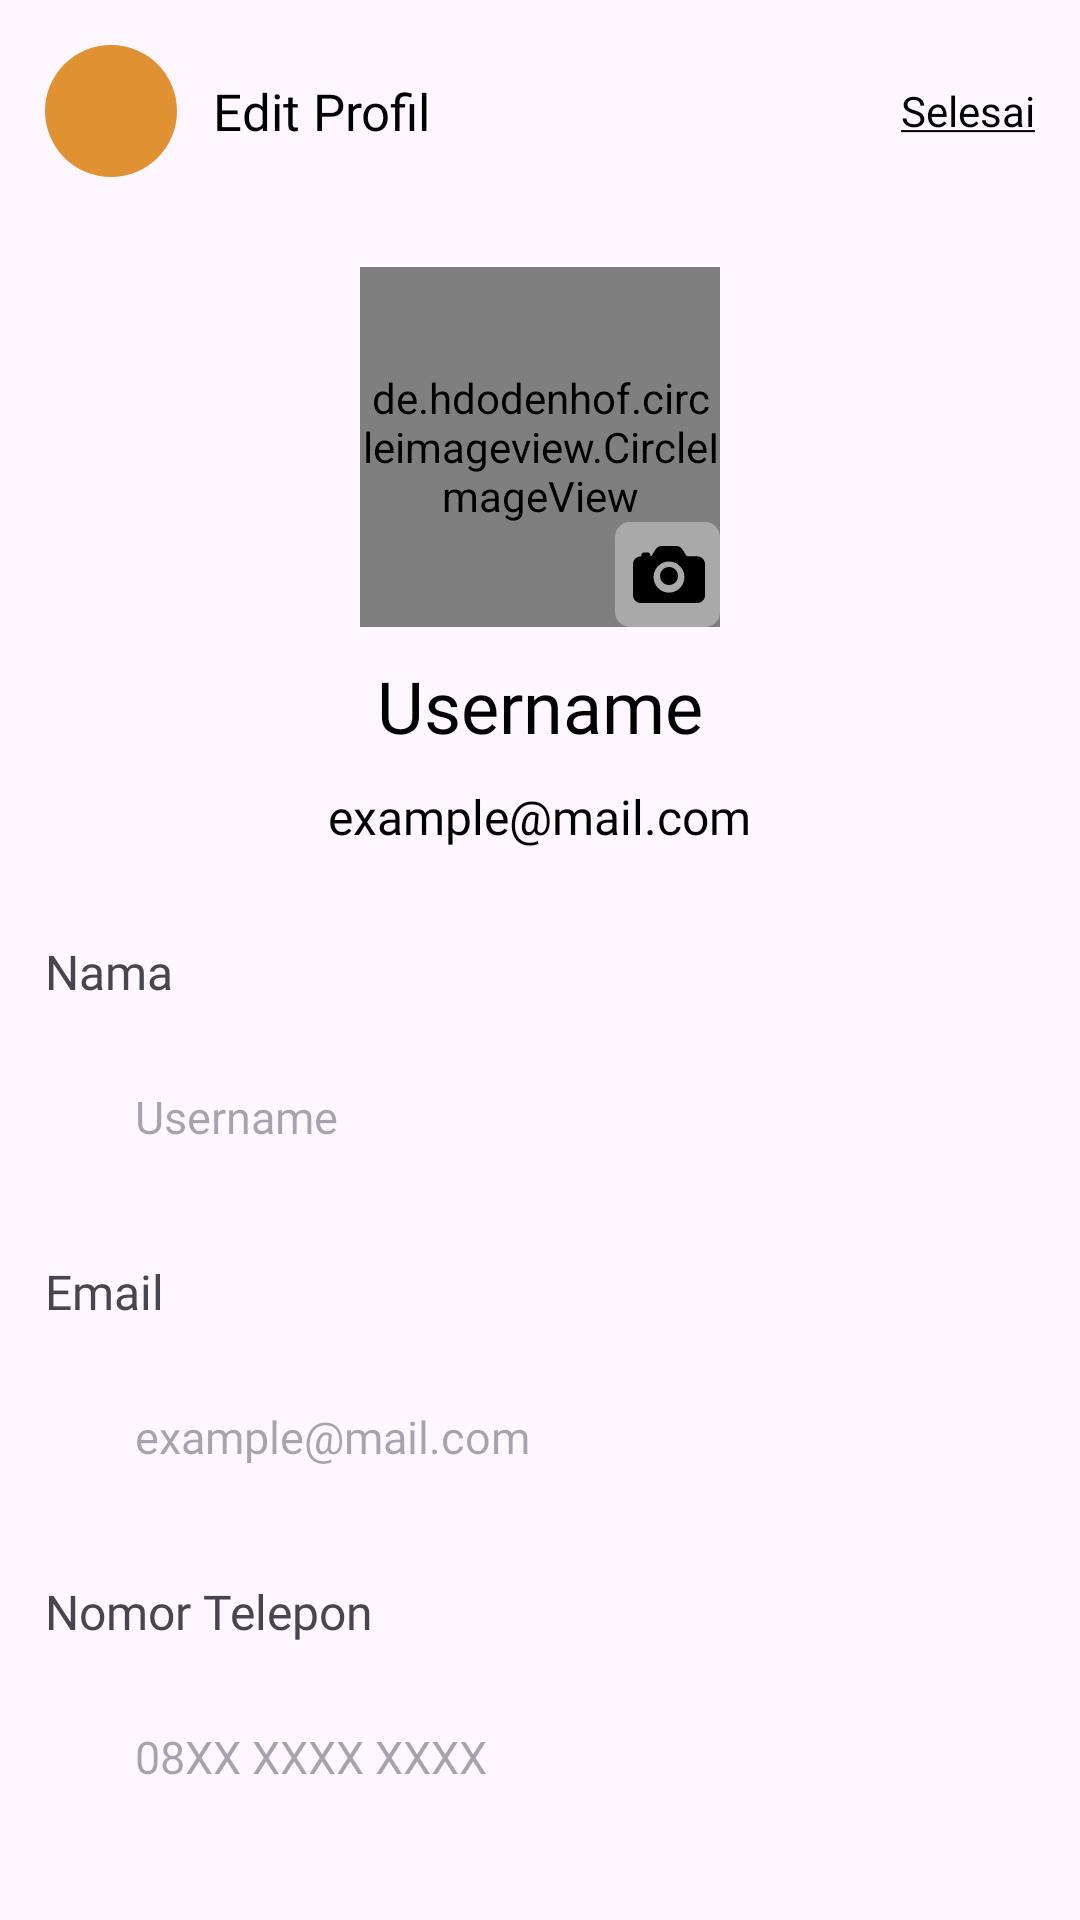

Named icons in this screenshot (1080px x 1920px) and their centers, (x=x, y=y):
edit profile picture: (x=667, y=574)
